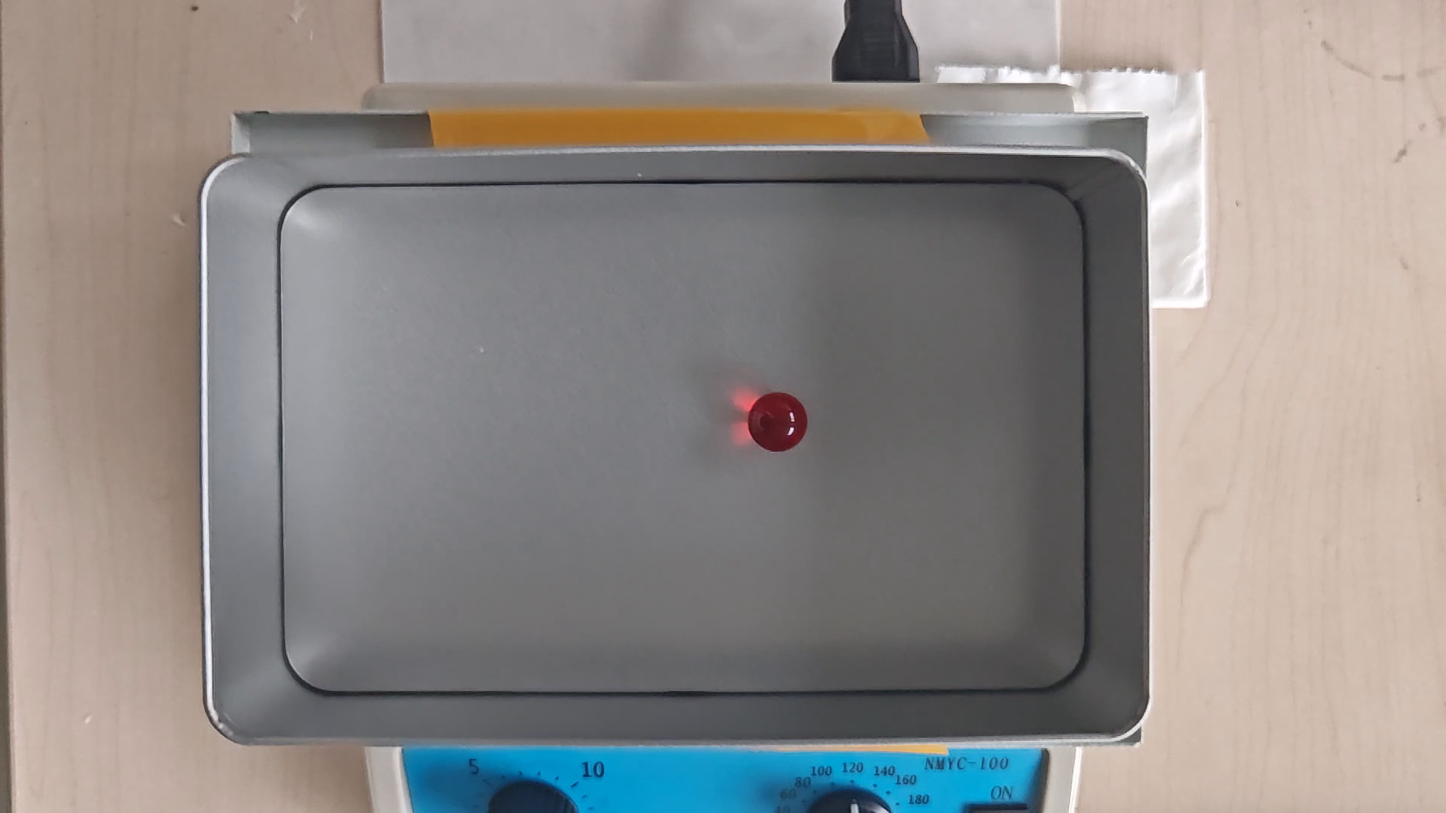ball: (748, 392, 807, 453)
container: (279, 186, 1086, 691)
